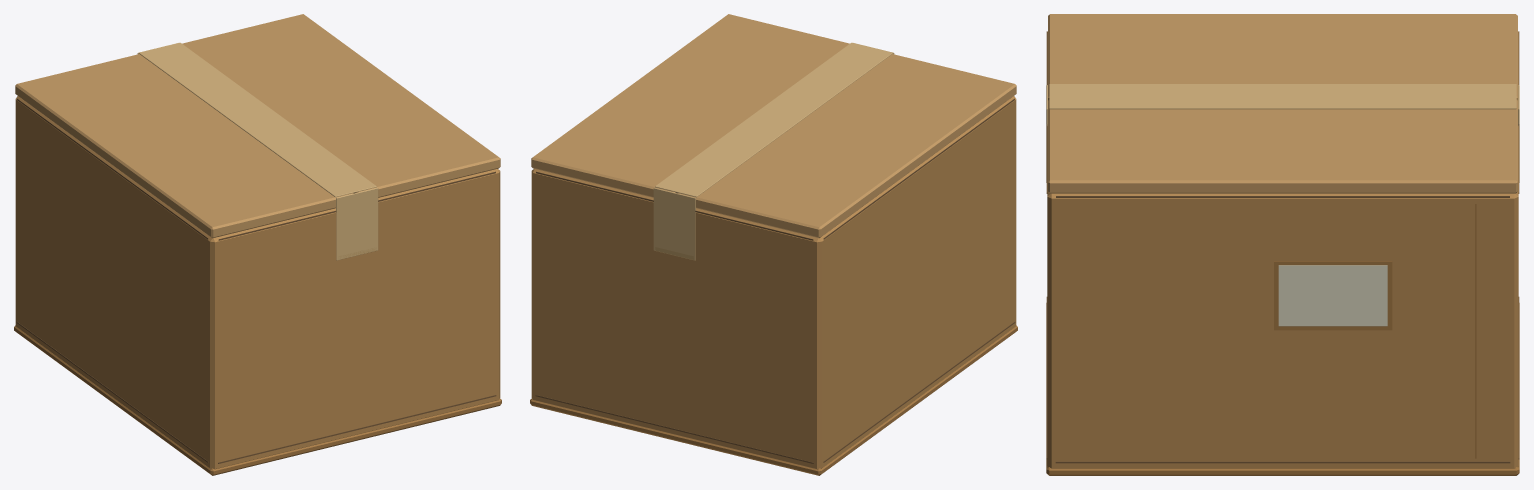
Rendered from crate.glb.
The picture shows the model from 3 angles, left to right: view 1: azimuth 30°, elevation 25°; view 2: azimuth 150°, elevation 25°; view 3: azimuth 270°, elevation 25°; orthographic projection. The views are drawn at different scales.
Parts seen in each view (by area): view 1: crate__material_02, crate__material_03, crate__material_06, crate__material_04, crate__material_01; view 2: crate__material_02, crate__material_03, crate__material_06, crate__material_04, crate__material_01; view 3: crate__material_02, crate__material_03, crate__material_06, crate__material_00, crate__material_04, crate__material_01.
Boxes of the visible parts, bbox=[...] form: crate__material_02: bbox=[15, 96, 500, 469]; crate__material_03: bbox=[15, 14, 500, 238]; crate__material_06: bbox=[137, 42, 378, 260]; crate__material_04: bbox=[14, 325, 501, 475]; crate__material_01: bbox=[16, 98, 496, 463]; crate__material_02: bbox=[531, 96, 1016, 469]; crate__material_03: bbox=[531, 14, 1016, 238]; crate__material_06: bbox=[653, 42, 894, 260]; crate__material_04: bbox=[530, 325, 1017, 475]; crate__material_01: bbox=[535, 98, 1015, 463]; crate__material_02: bbox=[1047, 31, 1518, 468]; crate__material_03: bbox=[1048, 14, 1517, 193]; crate__material_06: bbox=[1046, 84, 1519, 182]; crate__material_00: bbox=[1278, 265, 1387, 326]; crate__material_04: bbox=[1046, 204, 1519, 475]; crate__material_01: bbox=[1046, 31, 1519, 463].
Bounding box in the file's own units: 0.55 × 0.45 × 0.65.
